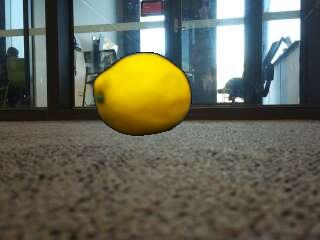lemon: (94, 55, 190, 137)
